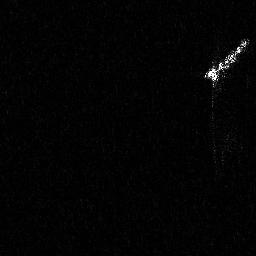ship: (201, 36, 249, 89)
